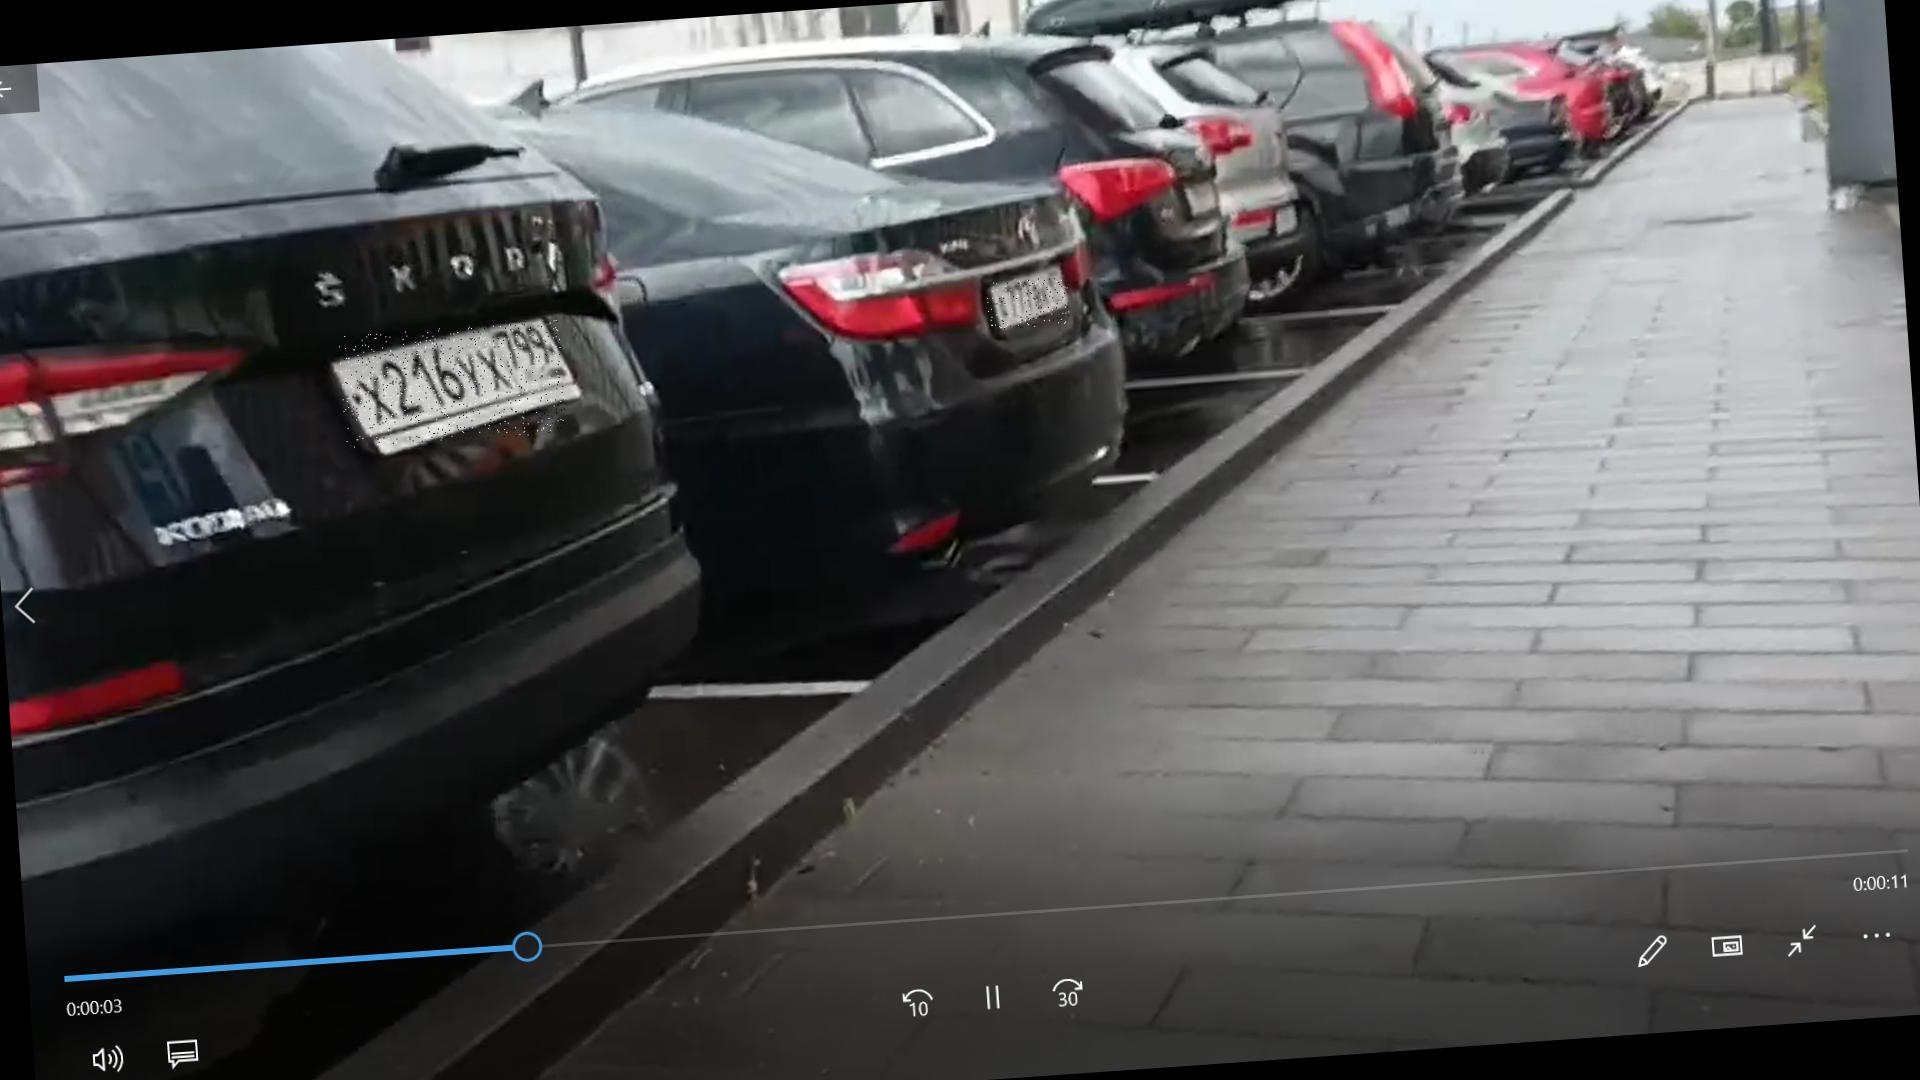plate: (340, 321, 569, 449), (988, 277, 1073, 331)
